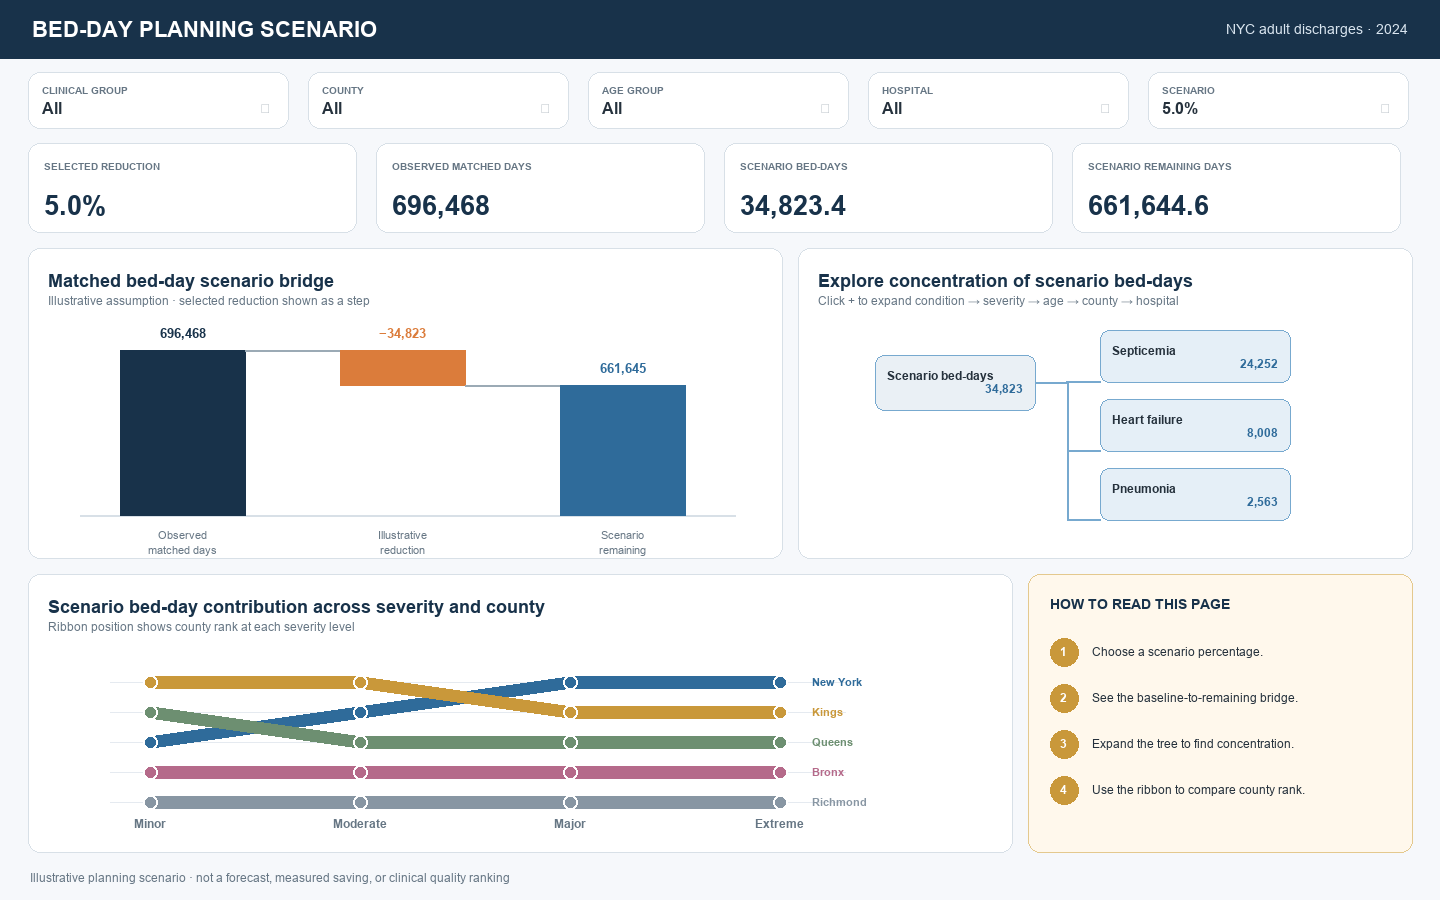

What the dashboard file says about the page in this screenshot:
{"tool":"powerbi","page":{"name":"Planning Scenario","canvas":[1920,1080],"ordinal":2},"visuals":[{"type":"cardVisual","fields":{"Data":["Discharges.Selected Reduction","Discharges.Observed Matched LOS","Discharges.Scenario Bed Days","Discharges.Scenario Remaining Days"]},"box":[1680,256,208,608],"z":0},{"type":"slicer","fields":{"Values":["Conditions.Condition"]},"box":[32,480,160,80],"z":0,"group":"g1"},{"type":"slicer","fields":{"Values":["Hospitals.HospitalName"]},"box":[32,368,160,80],"z":1000,"group":"g1"},{"type":"waterfallChart","title":"Matched bed-day scenario bridge","fields":{"Category":["ScenarioBridge.Step"],"Y":["Discharges.Scenario Bridge Value"]},"box":[224,528,560,480],"z":1000},{"type":"decompositionTreeVisual","fields":{"Analyze":["Discharges.Scenario Bed Days"],"ExplainBy":["Conditions.Condition","Severity.Severity","AgeGroups.AgeGroup","Hospitals.HospitalCounty","Hospitals.HospitalName"]},"box":[224,64,1424,448],"z":2000},{"type":"slicer","fields":{"Values":["AgeGroups.AgeGroup"]},"box":[32,256,160,80],"z":2000,"group":"g1"},{"type":"ribbonChart","title":"Scenario bed-day contribution across severity and county","fields":{"Category":["Severity.Severity"],"Series":["Hospitals.HospitalCounty"],"Y":["Discharges.Scenario Bed Days"]},"box":[800,528,848,480],"z":3000},{"type":"slicer","fields":{"Values":["Hospitals.HospitalCounty"]},"box":[32,592,160,80],"z":3000,"group":"g1"},{"type":"group","id":"g1","title":"Group 1","box":[32,256,160,528],"z":4000},{"type":"slicer","fields":{"Values":["Scenario.ReductionPct"]},"box":[32,704,160,80],"z":4000,"group":"g1"}]}

Visuals, with their boxes on the page's 1920x1080 design canvas (x1, y1, x2, y2). These are canvas units, not pixel positions in the 1440x900 screenshot, which may show the page scaled, cropped or inside an application window:
cardVisual - Discharges.Selected Reduction x Discharges.Observed Matched LOS: (1680,256,1888,864)
slicer - Conditions.Condition: (32,480,192,560)
slicer - Hospitals.HospitalName: (32,368,192,448)
"Matched bed-day scenario bridge" waterfallChart: (224,528,784,1008)
decompositionTreeVisual - Discharges.Scenario Bed Days x Conditions.Condition: (224,64,1648,512)
slicer - AgeGroups.AgeGroup: (32,256,192,336)
"Scenario bed-day contribution across severity and county" ribbonChart: (800,528,1648,1008)
slicer - Hospitals.HospitalCounty: (32,592,192,672)
"Group 1" group: (32,256,192,784)
slicer - Scenario.ReductionPct: (32,704,192,784)
